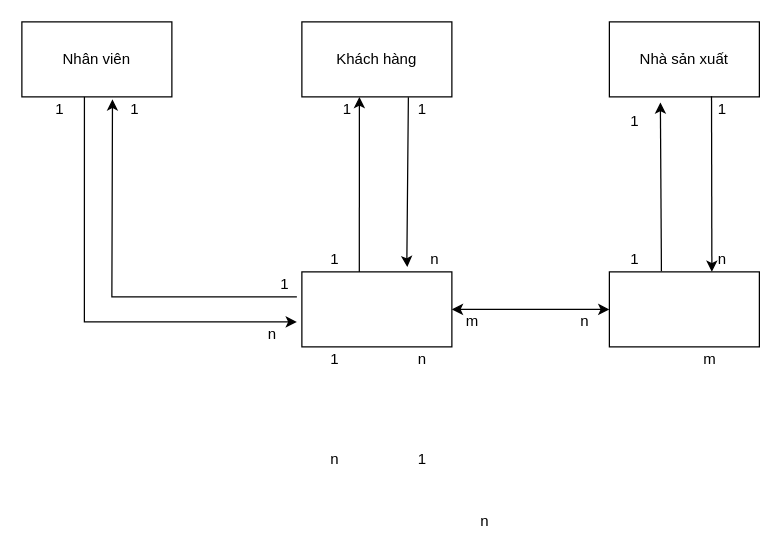
Image size: 781x556. Some labels were removed from this diagram. Here are the shapes that lost their labels. From the top down, the centre of each, then its label:
At [376,309]: "Hoá đơn".
At [683,309]: "Sản phẩm".
